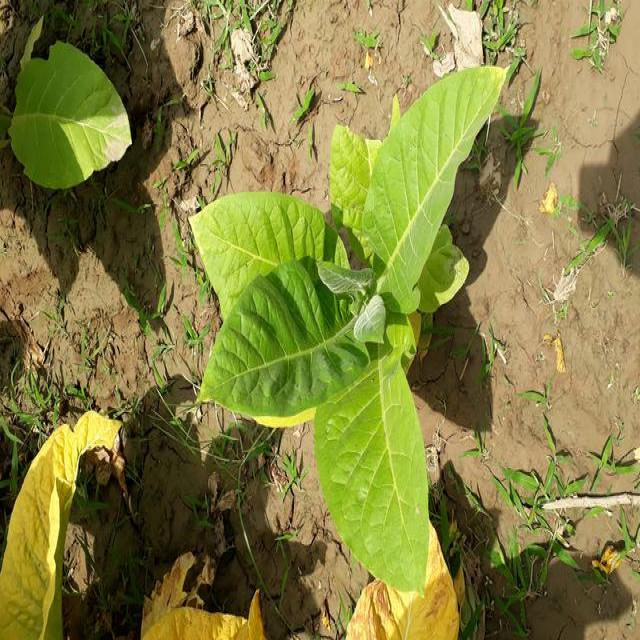crop: (187, 63, 514, 599)
